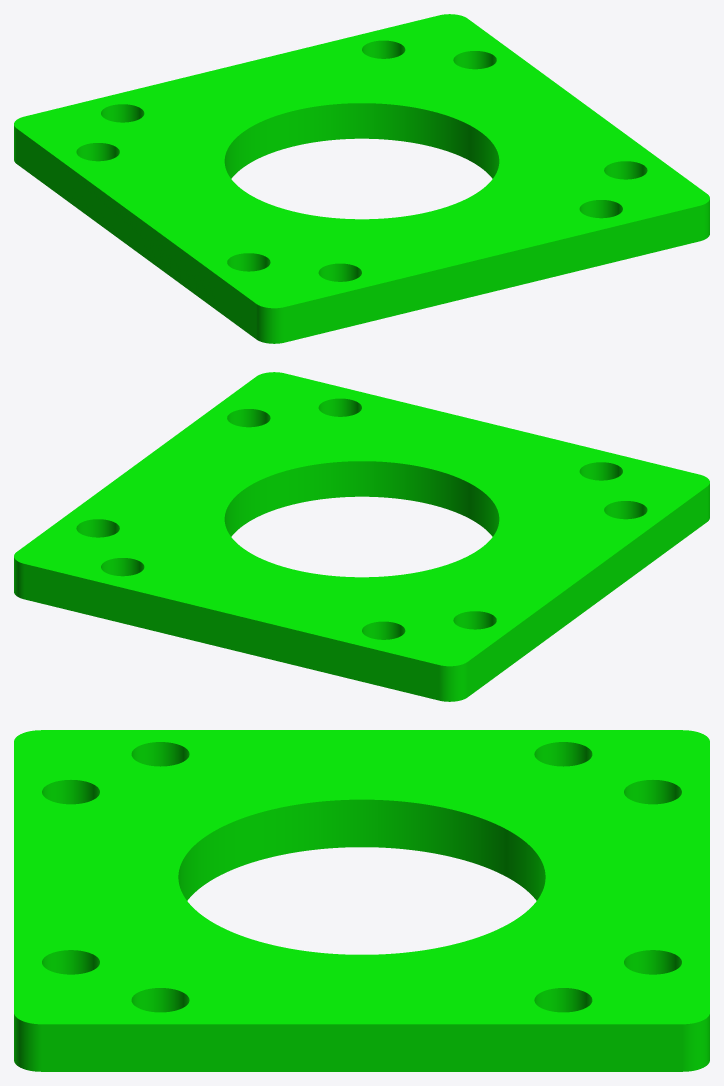
Rendered from V5_Top Mount (SM1).obj.
3 renders of one model, top to bottom at view 1: azimuth 30°, elevation 25°; view 2: azimuth 150°, elevation 25°; view 3: azimuth 270°, elevation 25°, orthographic. The views are drawn at different scales.
Parts seen in each view (by area): view 1: Solid1:47; view 2: Solid1:47; view 3: Solid1:47.
Part boxes in pixels (x1=…): Solid1:47: x1=14, y1=14, x2=709, y2=343; Solid1:47: x1=14, y1=372, x2=709, y2=701; Solid1:47: x1=14, y1=730, x2=709, y2=1071.
Bounding box in the file's own units: 49.75 × 3.75 × 49.75.
